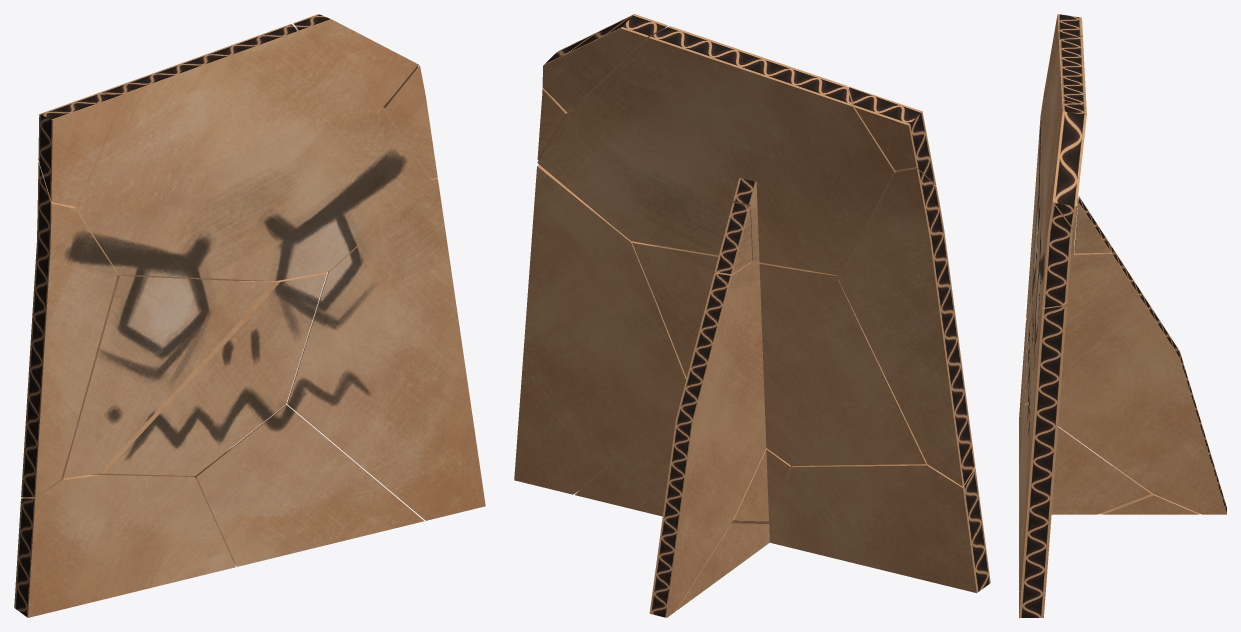
File: Carboard Cut Out Monster Fractured.fbx
3 renders of one model, left to right at view 1: azimuth 30°, elevation 25°; view 2: azimuth 150°, elevation 25°; view 3: azimuth 270°, elevation 25°, orthographic. The views are drawn at different scales.
Parts seen in each view (by area): view 1: Cardboard Cut-Out_cell.011, Cardboard Cut-Out_cell.006, Cardboard Cut-Out_cell.001, Cardboard Cut-Out_cell.008, Cardboard Cut-Out_cell, Cardboard Cut-Out_cell.003, Cardboard Cut-Out_cell.010, Cardboard Cut-Out_cell.004, Cardboard Cut-Out_cell.002, Cardboard Cut-Out_cell.009; view 2: Cardboard Cut-Out_cell.011, Cardboard Cut-Out_cell.003, Cardboard Cut-Out_cell.006, Cardboard Cut-Out_cell.001, Cardboard Cut-Out_cell.010, Cardboard Cut-Out_cell.008, Cardboard Cut-Out_cell.002, Cardboard Cut-Out_cell.004, Cardboard Cut-Out_cell.007, Cardboard Cut-Out_cell.009; view 3: Cardboard Cut-Out_cell.003, Cardboard Cut-Out_cell.006, Cardboard Cut-Out_cell.008, Cardboard Cut-Out_cell.011, Cardboard Cut-Out_cell.002, Cardboard Cut-Out_cell.009, Cardboard Cut-Out_cell.001, Cardboard Cut-Out_cell.007, Cardboard Cut-Out_cell.004, Cardboard Cut-Out_cell, Cardboard Cut-Out_cell.010.
Boxes of the visible parts, bbox=[...] form: Cardboard Cut-Out_cell.011: bbox=[76, 24, 429, 281]; Cardboard Cut-Out_cell.006: bbox=[287, 174, 485, 520]; Cardboard Cut-Out_cell.001: bbox=[14, 475, 235, 617]; Cardboard Cut-Out_cell.008: bbox=[194, 404, 424, 566]; Cardboard Cut-Out_cell: bbox=[63, 276, 272, 478]; Cardboard Cut-Out_cell.003: bbox=[90, 272, 327, 476]; Cardboard Cut-Out_cell.010: bbox=[21, 162, 122, 497]; Cardboard Cut-Out_cell.004: bbox=[38, 94, 124, 206]; Cardboard Cut-Out_cell.002: bbox=[293, 14, 418, 108]; Cardboard Cut-Out_cell.009: bbox=[385, 65, 437, 178]; Cardboard Cut-Out_cell.011: bbox=[537, 26, 896, 275]; Cardboard Cut-Out_cell.003: bbox=[632, 242, 926, 617]; Cardboard Cut-Out_cell.006: bbox=[514, 164, 686, 494]; Cardboard Cut-Out_cell.001: bbox=[676, 463, 990, 610]; Cardboard Cut-Out_cell.010: bbox=[837, 168, 975, 486]; Cardboard Cut-Out_cell.008: bbox=[575, 406, 792, 524]; Cardboard Cut-Out_cell.002: bbox=[542, 14, 667, 112]; Cardboard Cut-Out_cell.004: bbox=[848, 86, 936, 185]; Cardboard Cut-Out_cell.007: bbox=[714, 202, 752, 274]; Cardboard Cut-Out_cell.009: bbox=[537, 88, 572, 160]; Cardboard Cut-Out_cell.003: bbox=[1025, 245, 1226, 514]; Cardboard Cut-Out_cell.006: bbox=[1019, 306, 1066, 617]; Cardboard Cut-Out_cell.008: bbox=[1019, 404, 1150, 590]; Cardboard Cut-Out_cell.011: bbox=[1037, 36, 1086, 316]; Cardboard Cut-Out_cell.002: bbox=[1048, 100, 1086, 229]; Cardboard Cut-Out_cell.009: bbox=[1042, 203, 1072, 307]; Cardboard Cut-Out_cell.001: bbox=[1019, 319, 1199, 514]; Cardboard Cut-Out_cell.007: bbox=[1074, 196, 1110, 253]; Cardboard Cut-Out_cell.004: bbox=[1045, 14, 1082, 96]; Cardboard Cut-Out_cell: bbox=[1027, 186, 1038, 338]; Cardboard Cut-Out_cell.010: bbox=[1026, 80, 1046, 319].
Size of the model in its own units: 76.35 by 79.78 by 33.37.
